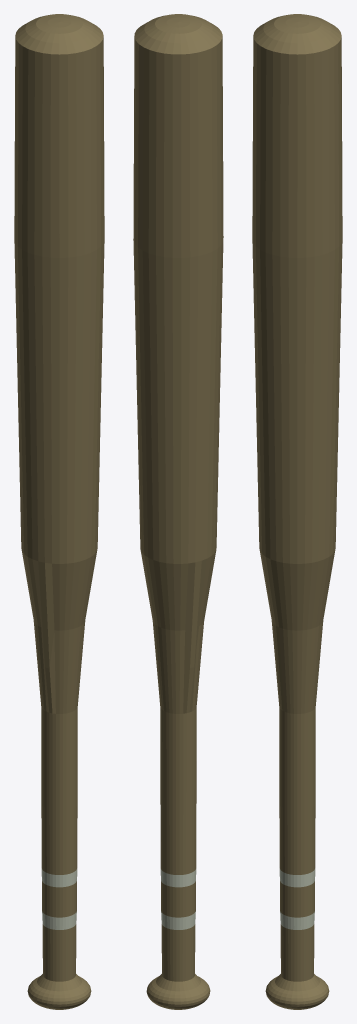
The model's file is Baseball Bat EXP.fbx.
3 renders of one model, left to right at view 1: azimuth 90°, elevation 25°; view 2: azimuth 150°, elevation 25°; view 3: azimuth 270°, elevation 25°, orthographic.
Parts seen in each view (by area): view 1: Sphere; view 2: Sphere; view 3: Sphere.
Part boxes in pixels (x1,y1,x2,y2): Sphere: (14, 14, 104, 1009); Sphere: (133, 14, 223, 1009); Sphere: (252, 14, 342, 1009).
Bounding box in the file's own units: 176 × 2113 × 176.
